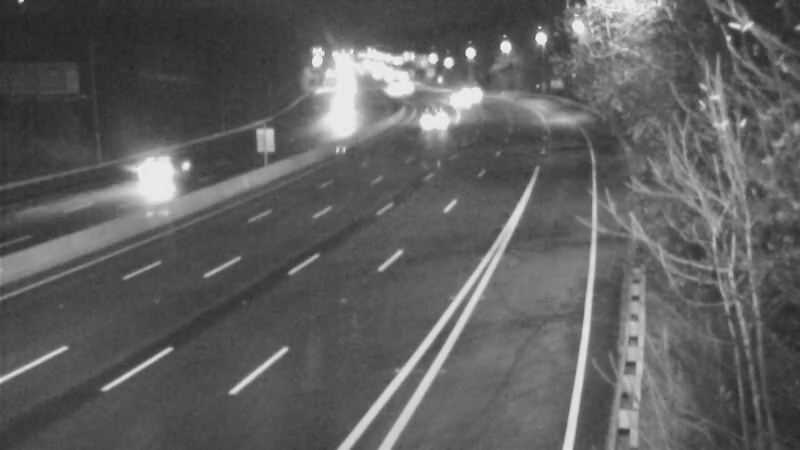vehicle: (116, 136, 196, 216), (408, 93, 458, 143), (438, 72, 488, 122)
